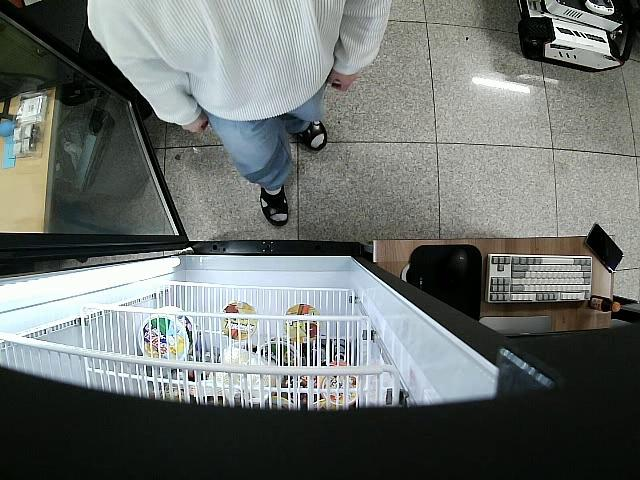00_hand: (328, 70, 357, 95), (183, 115, 213, 137)
